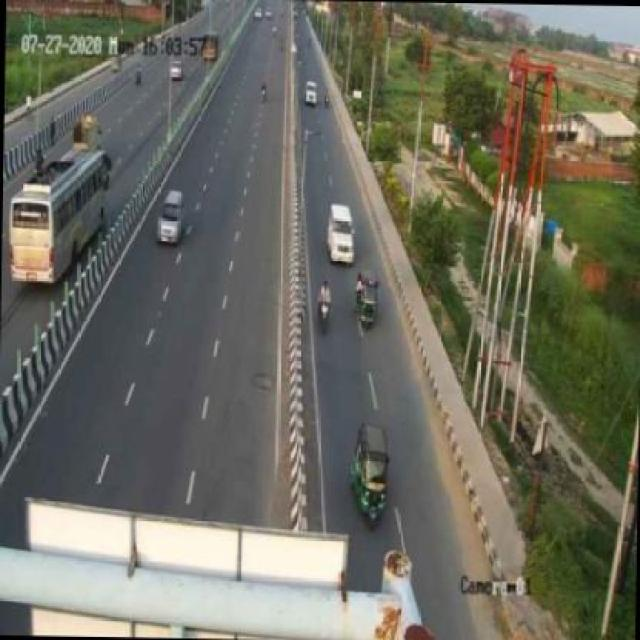car: (343, 418, 397, 534), (322, 196, 364, 258), (349, 262, 386, 332), (157, 189, 188, 245)
